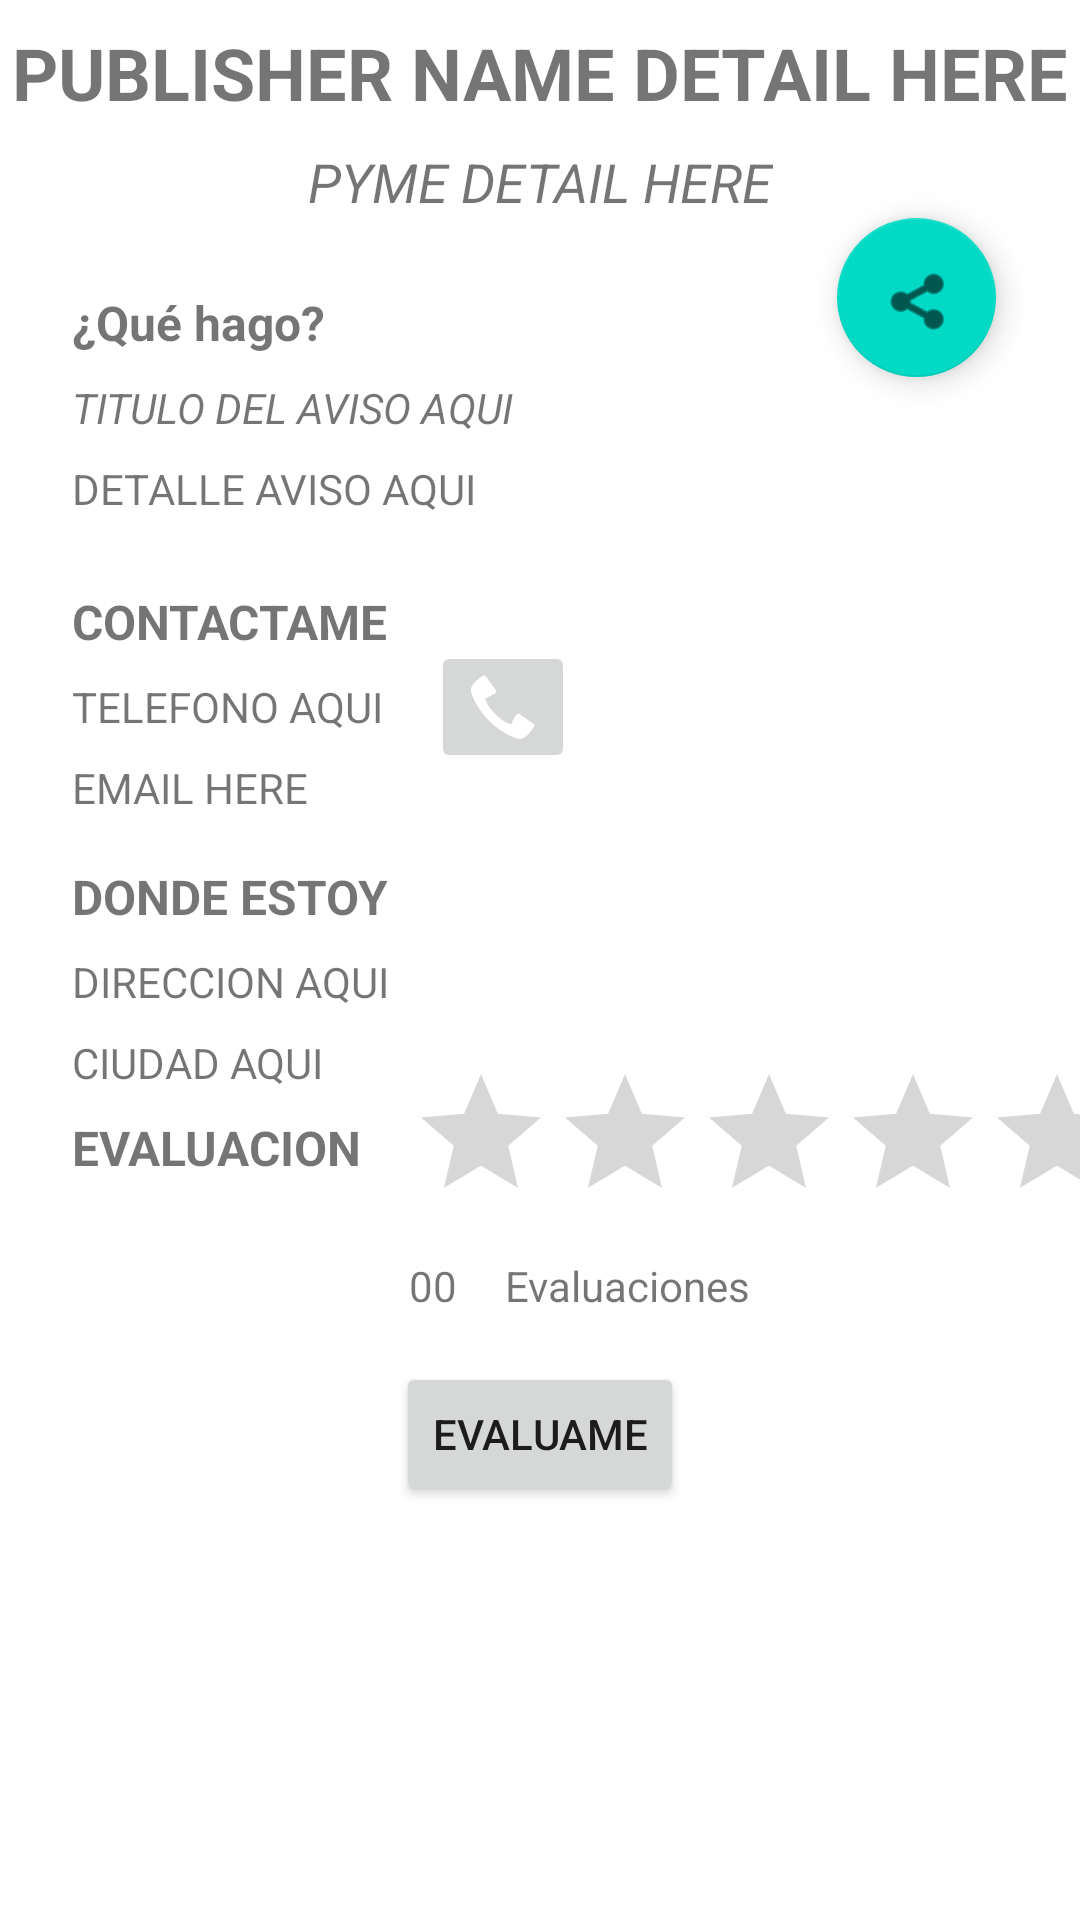

Named icons in this screenshot (1080*1920) and their centers, (x,y):
Phone call: (503,707)
Share Ad: (916,297)
